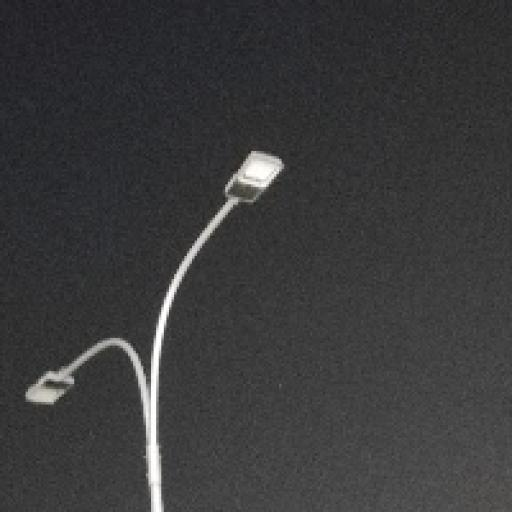Not Working: (212, 140, 291, 222), (18, 361, 81, 422)
